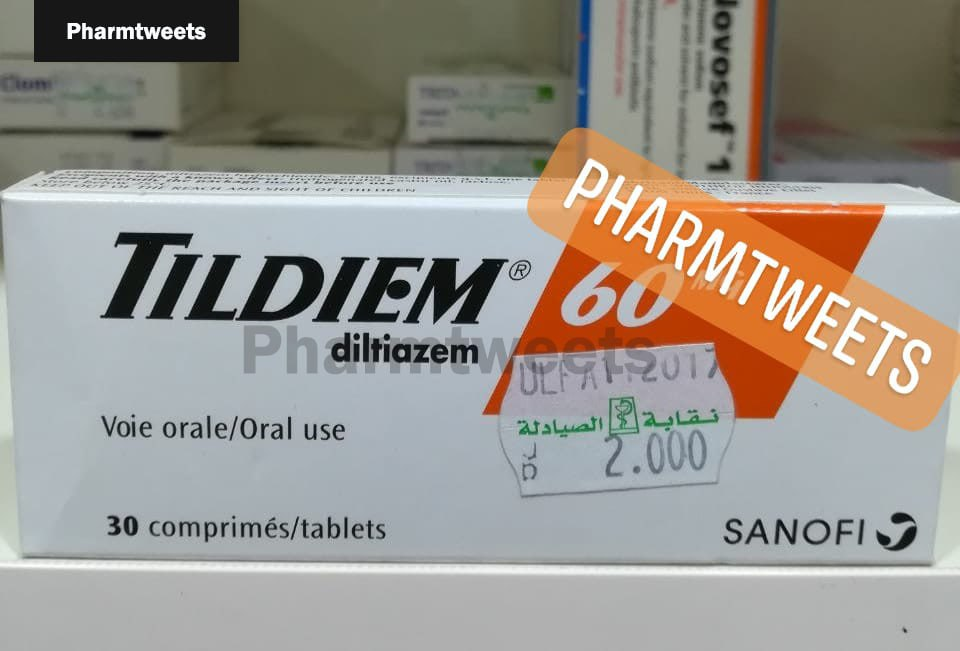Medicine: (5, 187, 958, 570), (573, 5, 770, 180), (402, 75, 577, 148)
